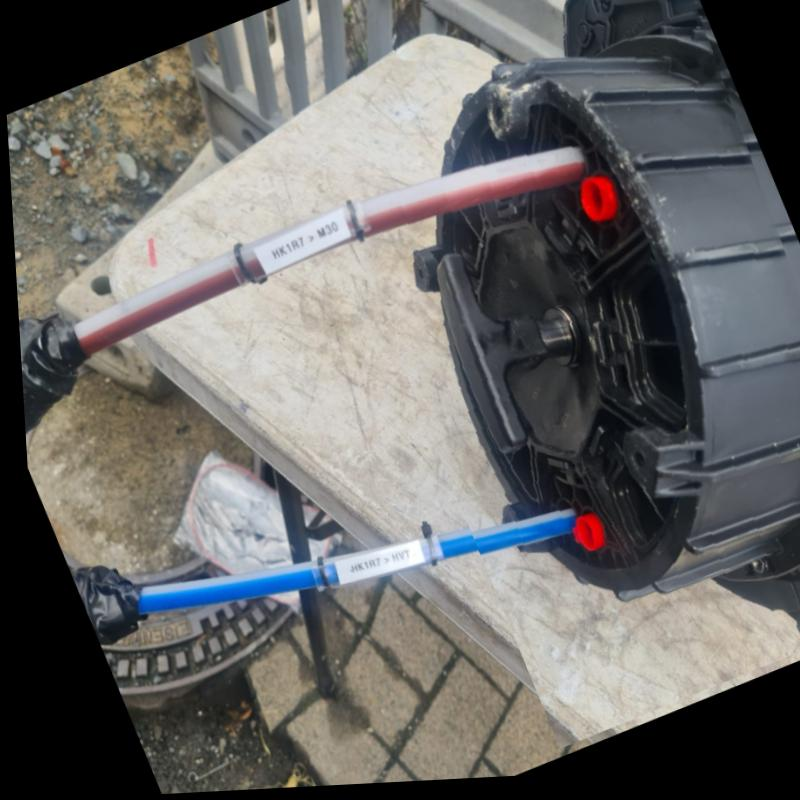NT-Muffen: (348, 0, 800, 649)
